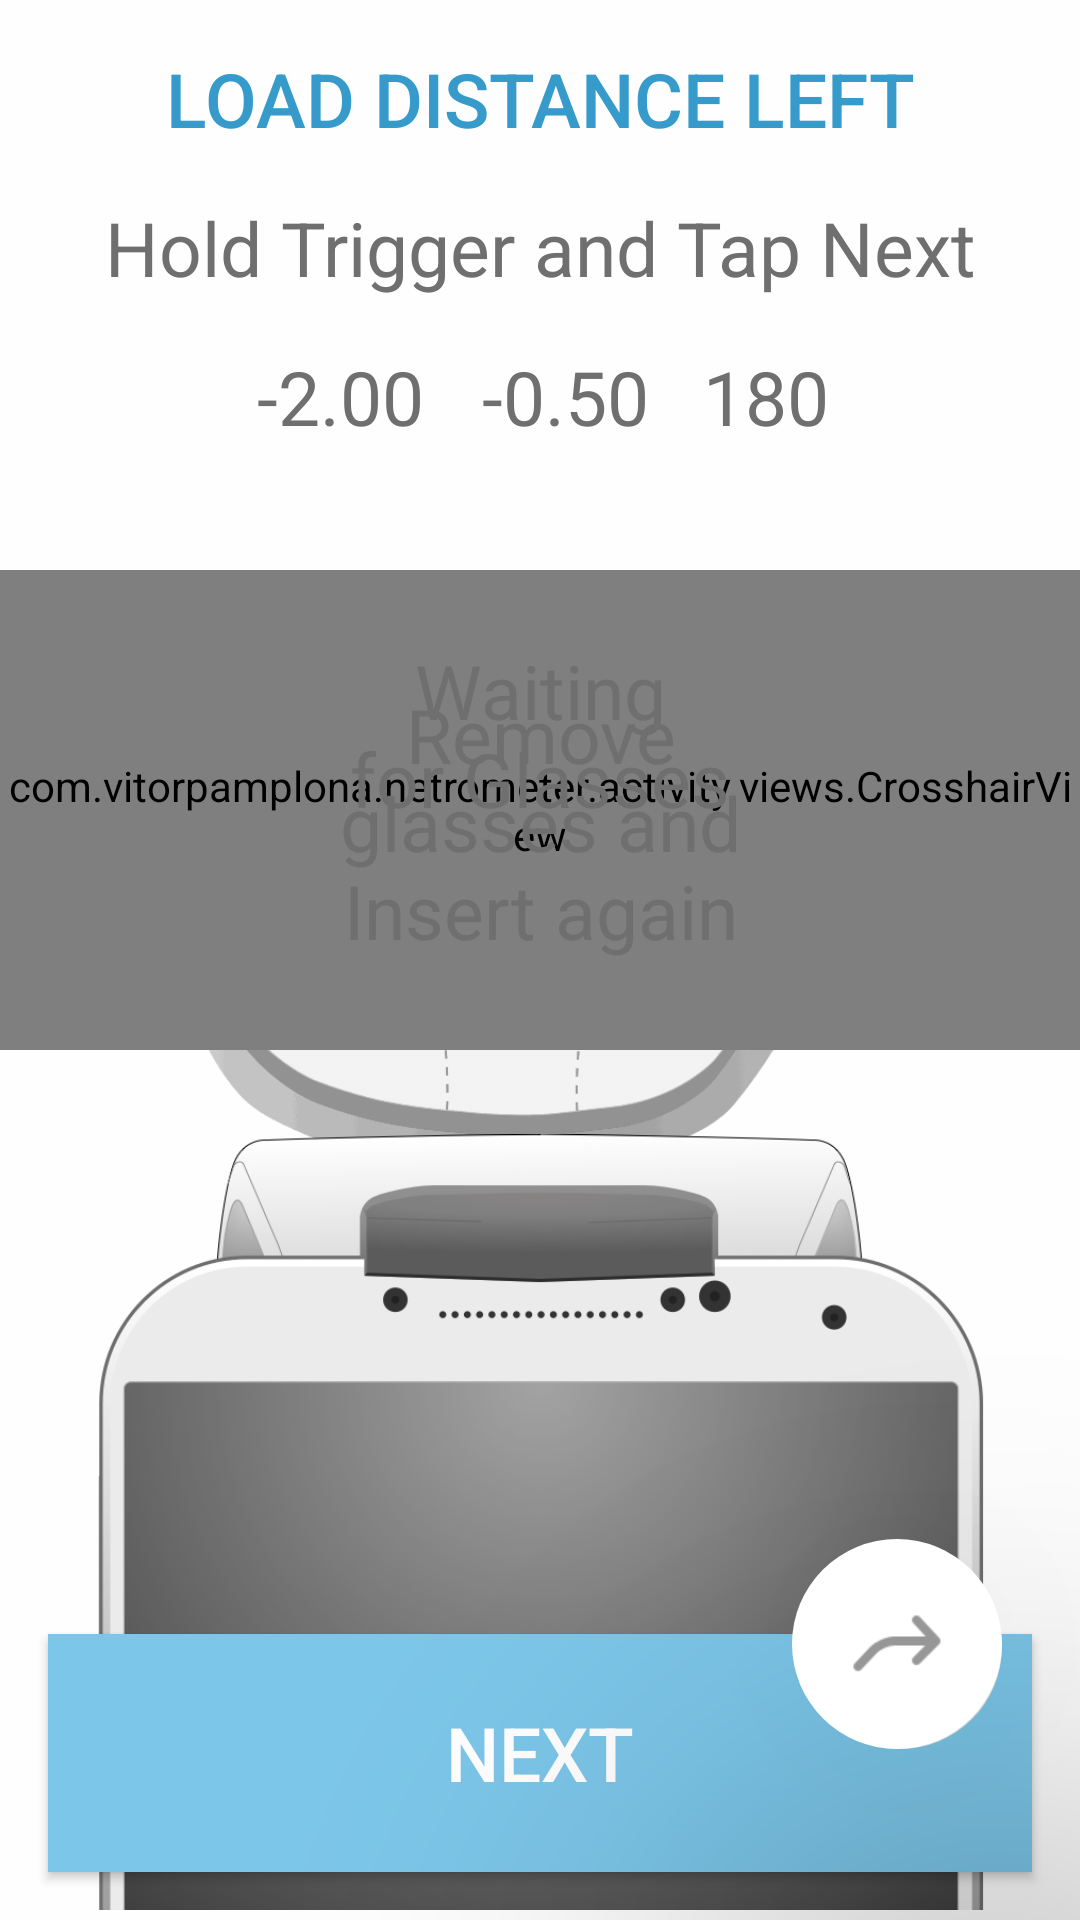

Screen size 1080w x 1920h. Icon name, then its center in pixels as (x=x, y=y):
skip: (x=897, y=1644)
